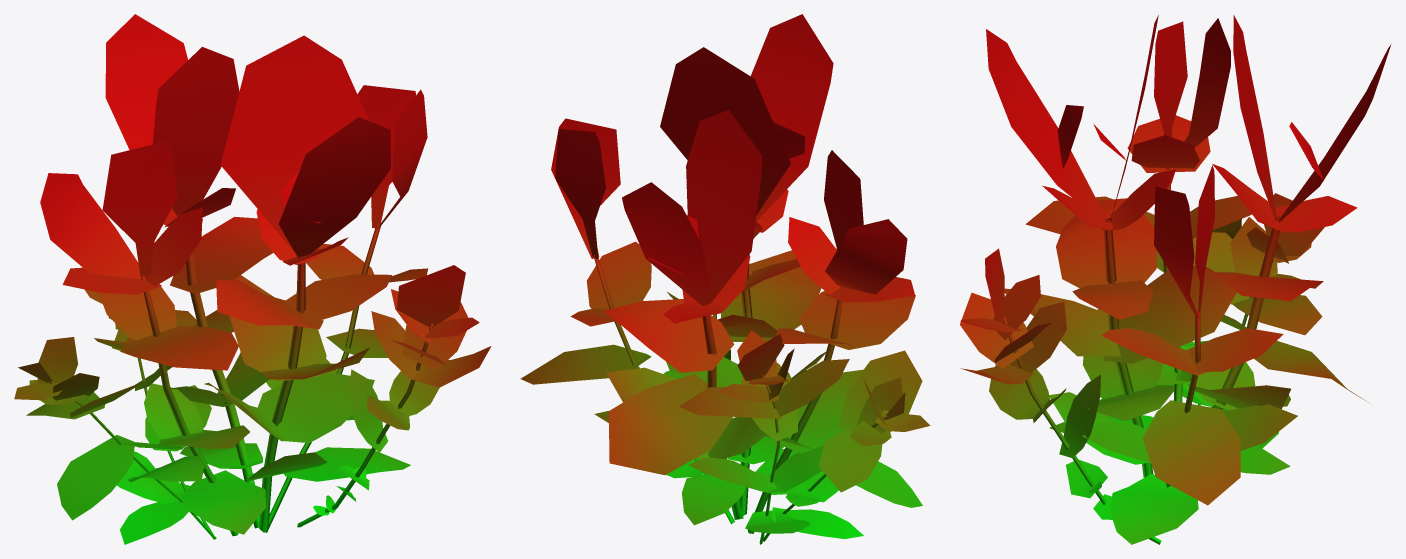
Rendered from Rubber Bush_LOD6_Var1_xffhfekia.fbx.
3 renders of one model, left to right at view 1: azimuth 30°, elevation 25°; view 2: azimuth 150°, elevation 25°; view 3: azimuth 270°, elevation 25°, orthographic. The views are drawn at different scales.
Visible parts, largest first — view 1: _3h7d_Var1_LOD6; view 2: _3h7d_Var1_LOD6; view 3: _3h7d_Var1_LOD6.
Boxes of the visible parts, box(x1,y1,x2,y2) form: _3h7d_Var1_LOD6: box(14, 14, 491, 544); _3h7d_Var1_LOD6: box(520, 14, 930, 544); _3h7d_Var1_LOD6: box(960, 15, 1391, 544).
Bounding box in the file's own units: 77.25 × 84.55 × 63.05.
